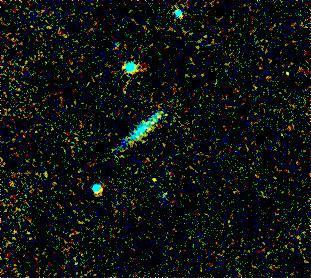star: (139, 165, 169, 195)
